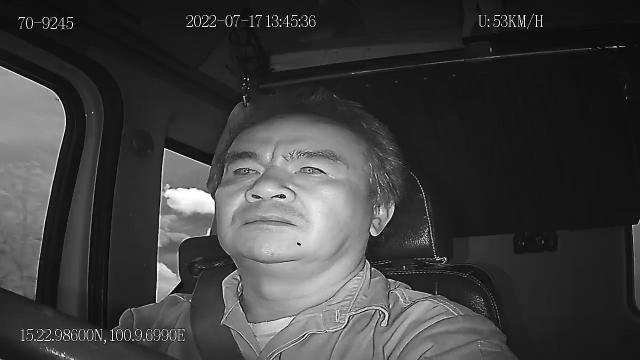SafeDriving: (287, 154, 334, 182), (224, 156, 264, 184)
Seatbelt: (188, 262, 248, 360)
